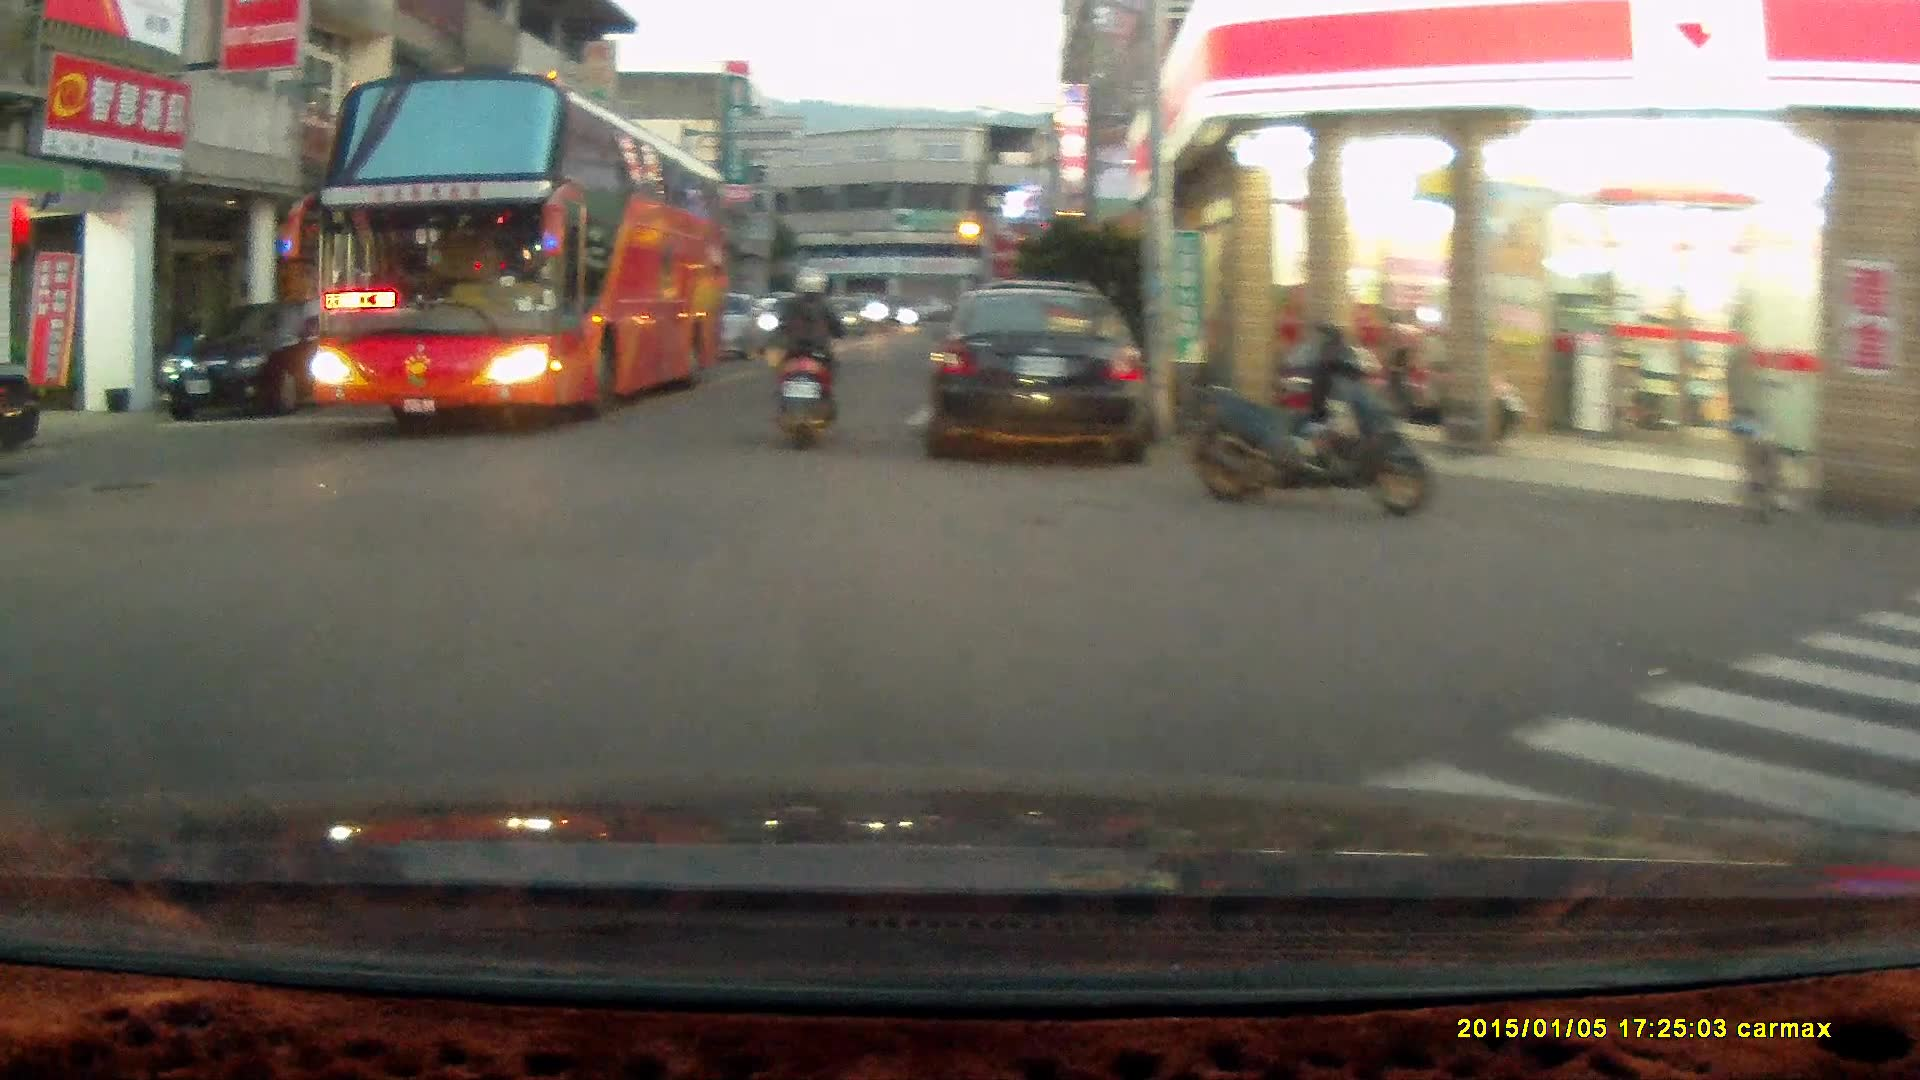rider: (759, 264, 842, 452)
vehicle: (305, 74, 737, 429), (923, 283, 1160, 463), (163, 303, 366, 416)
